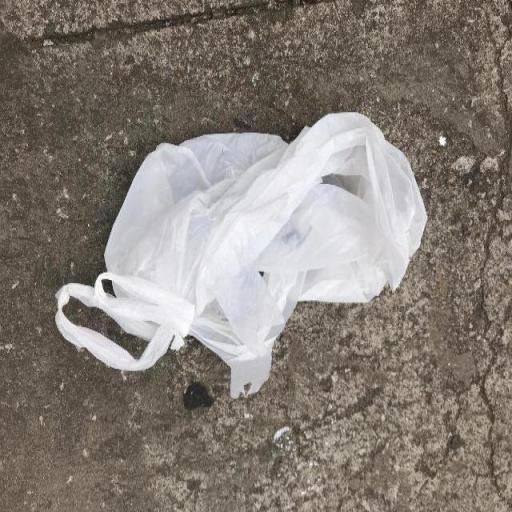plastic-bag: (52, 109, 430, 403)
